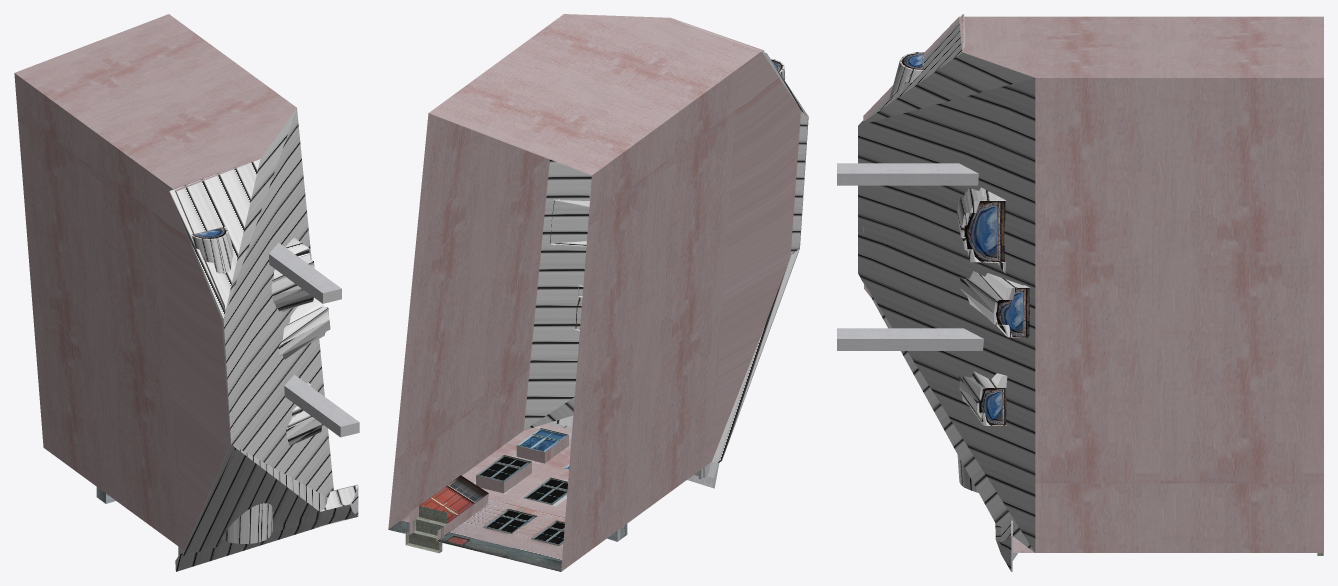
File: Niguliste8-origo.obj
3 views of the same model, side by side, from view 1: azimuth 30°, elevation 25°; view 2: azimuth 150°, elevation 25°; view 3: azimuth 270°, elevation 25° (orthographic). The views are drawn at different scales.
Parts seen in each view (by area): view 1: _7; view 2: _7; view 3: _7.
Boxes of the visible parts, left/top/right/bottom form: _7: left=14, top=14, right=359, bottom=571; _7: left=388, top=14, right=808, bottom=571; _7: left=837, top=14, right=1323, bottom=571.
Bounding box in the file's own units: 10.38 × 20 × 18.46.
